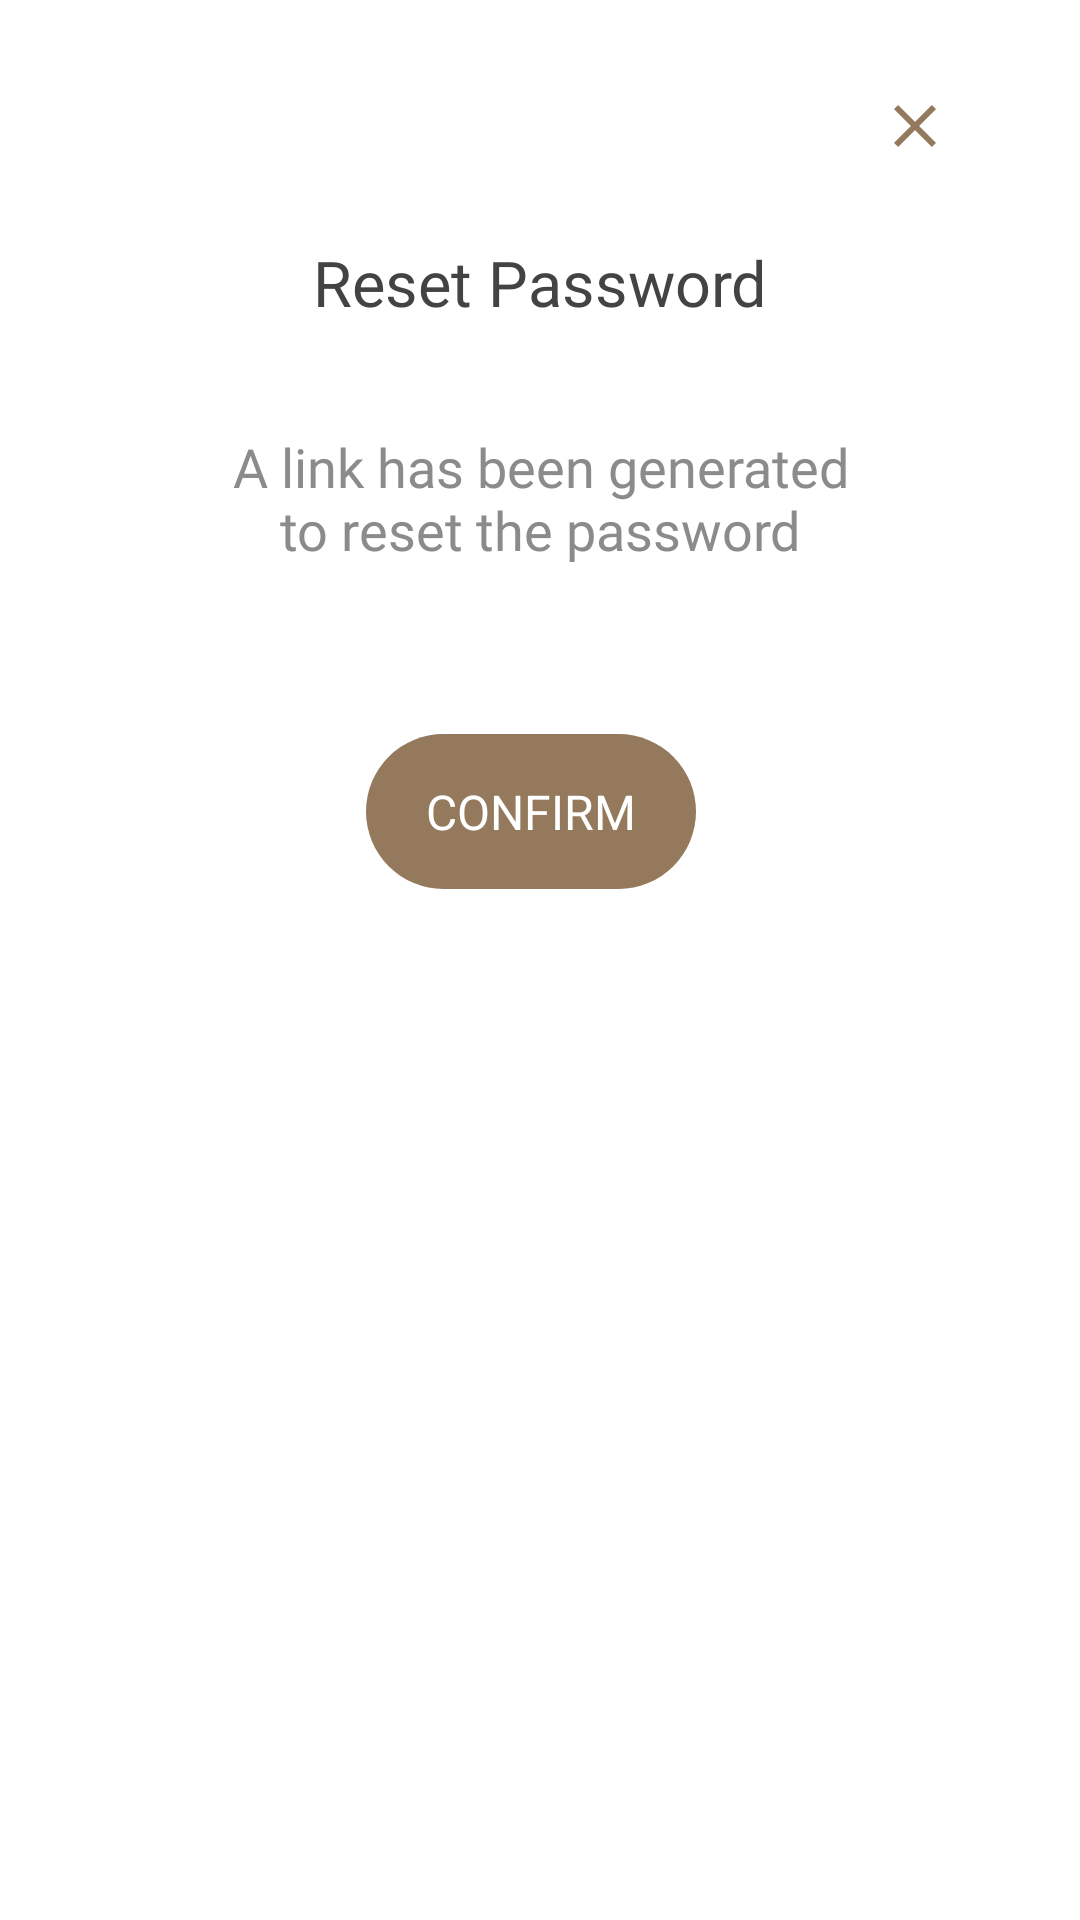

Point at icon controls on the screen. Image size 1080px×1920px, points as [x,y].
cross symbol: [915,126]
